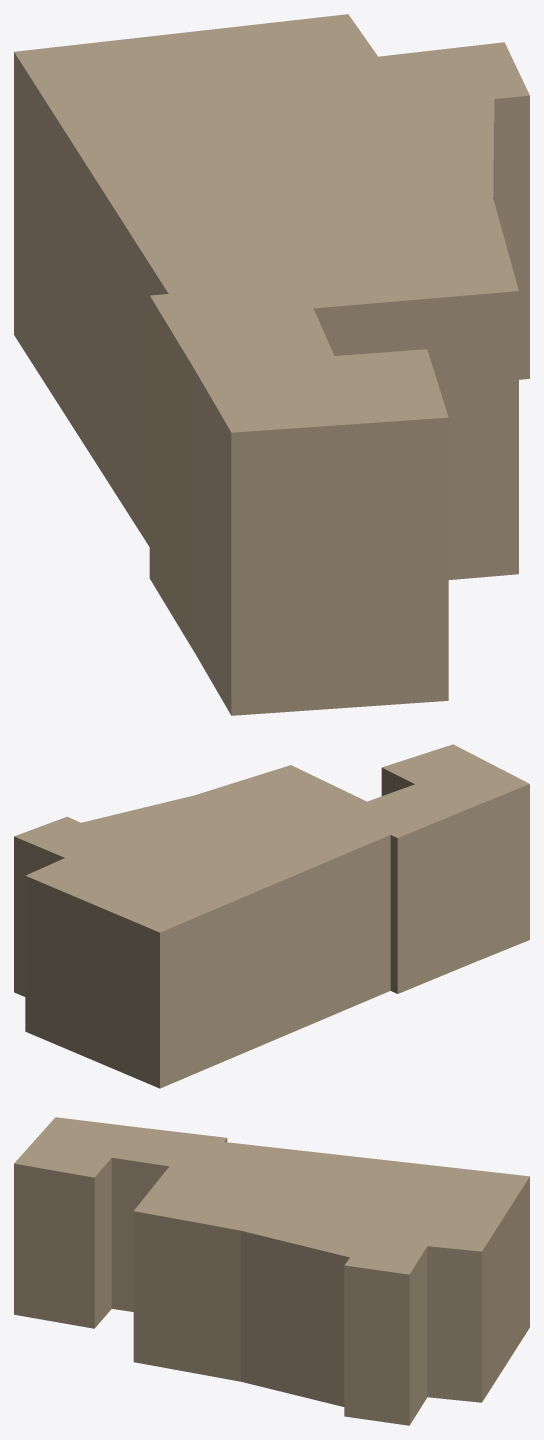
File: bld_99531879.dae
3 renders of one model, top to bottom at view 1: azimuth 30°, elevation 25°; view 2: azimuth 150°, elevation 25°; view 3: azimuth 270°, elevation 25°, orthographic. The views are drawn at different scales.
Parts seen in each view (by area): view 1: bld_99531879; view 2: bld_99531879; view 3: bld_99531879.
Boxes of the visible parts, box(x1,y1,x2,y2) form: bld_99531879: box(14, 14, 529, 715); bld_99531879: box(14, 744, 529, 1088); bld_99531879: box(14, 1117, 529, 1425).
Bounding box in the file's own units: 26.83 × 37.14 × 12.
